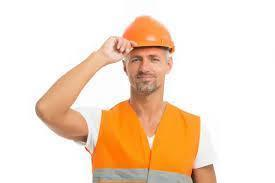helmet: (122, 16, 175, 54)
